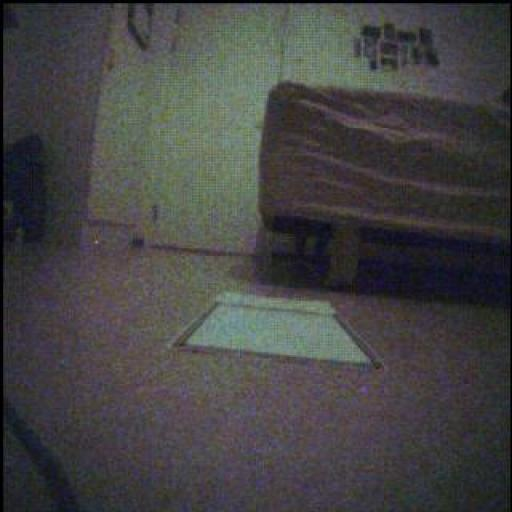pad: (172, 294, 380, 367)
